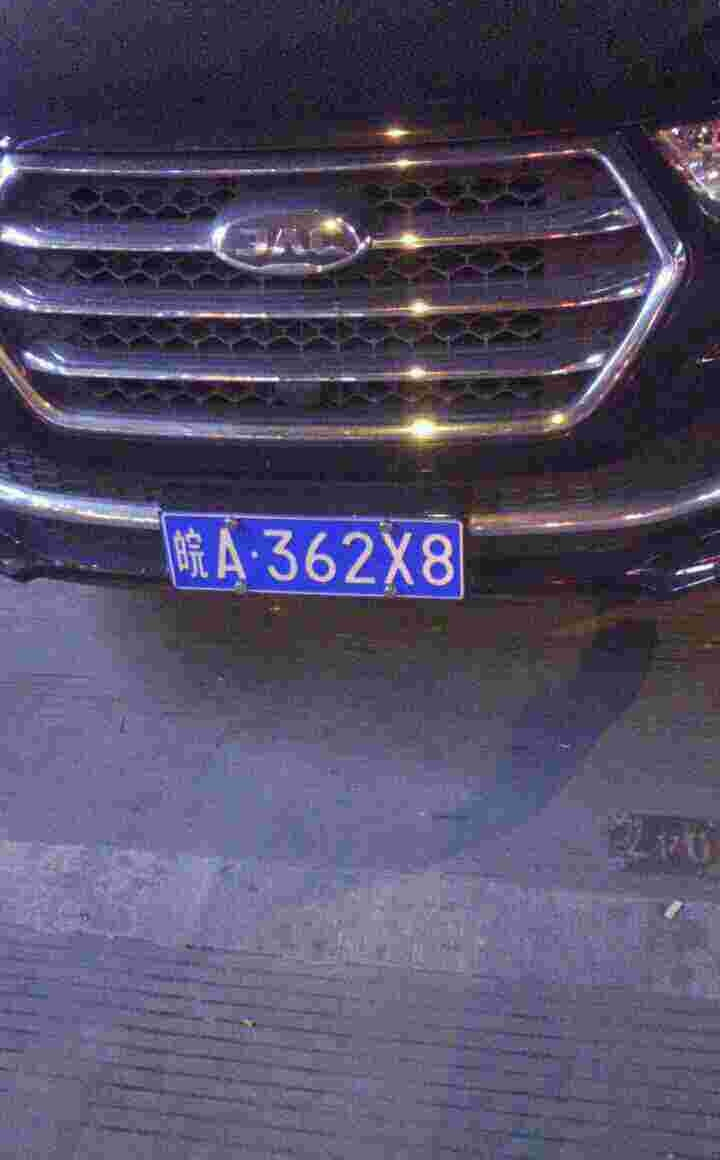license_plate: (164, 516, 465, 601)
